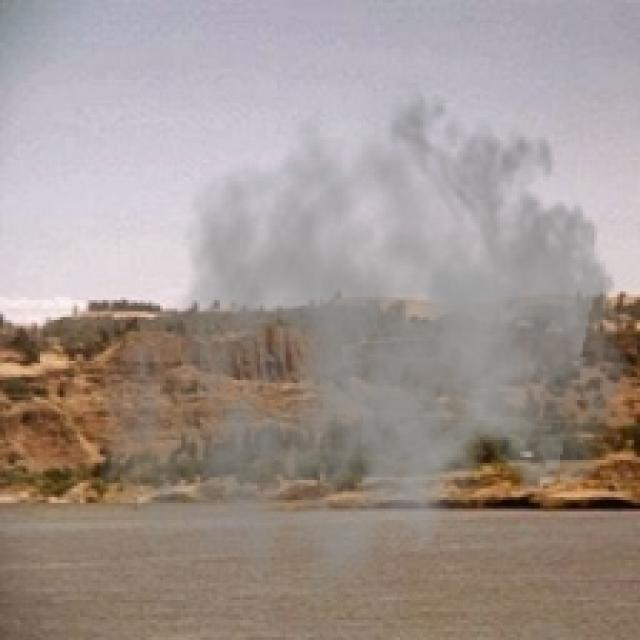Smoke: (92, 71, 638, 634)
